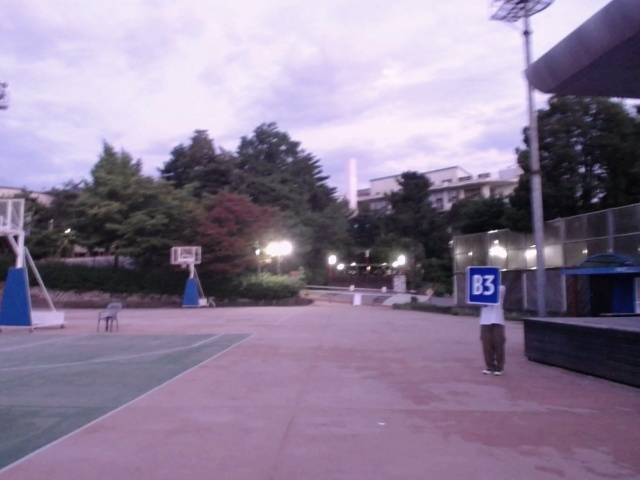delivery_b3: (468, 265, 501, 306)
